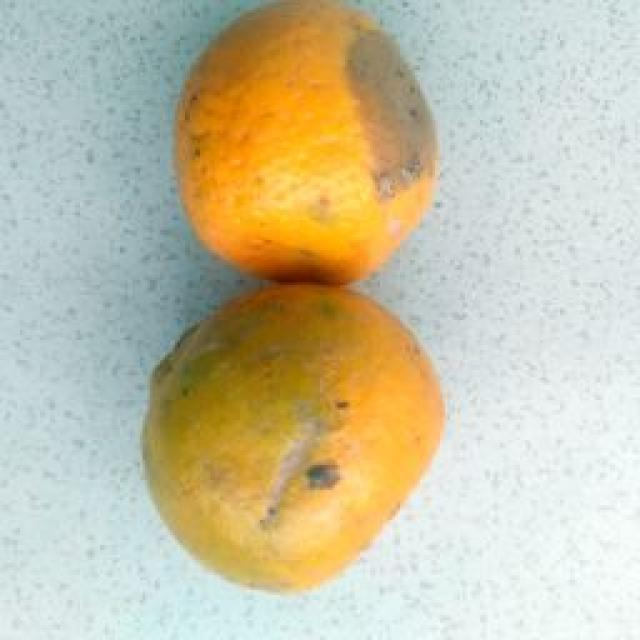Bad_Orange: (176, 0, 439, 283)
